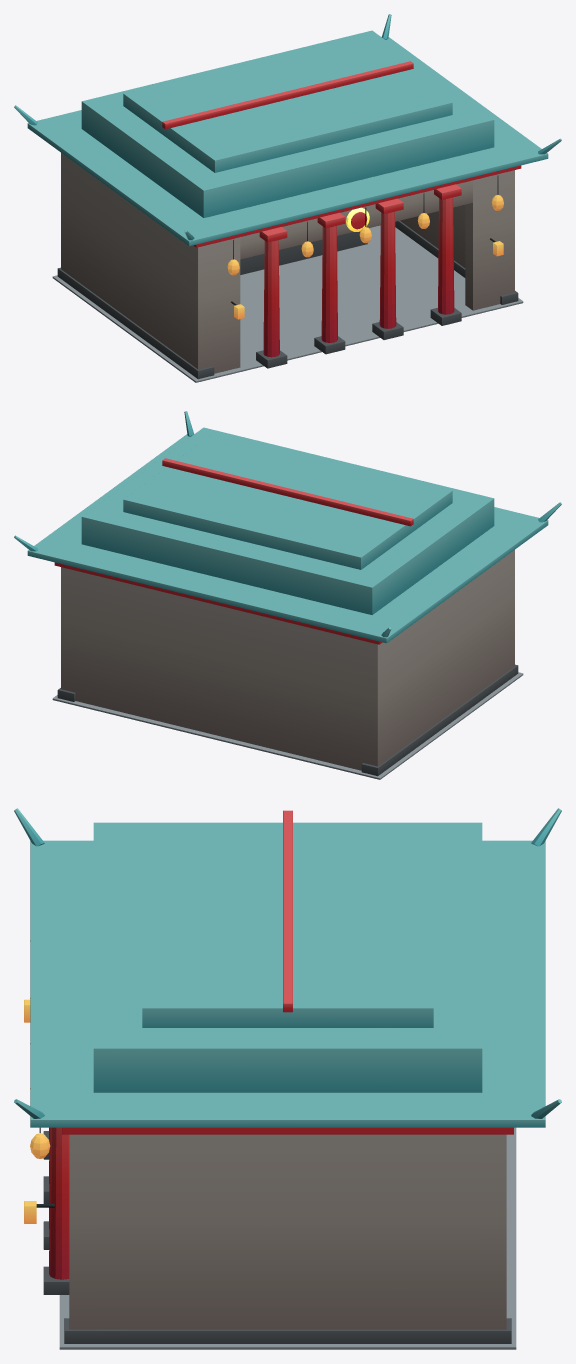
The model's file is bank_lanternhold.glb.
3 renders of one model, top to bottom at view 1: azimuth 30°, elevation 25°; view 2: azimuth 150°, elevation 25°; view 3: azimuth 270°, elevation 25°, orthographic. The views are drawn at different scales.
Parts seen in each view (by area): view 1: bank_lanternhold; view 2: bank_lanternhold; view 3: bank_lanternhold.
Part boxes in pixels (<box>): bank_lanternhold: <box>14,14,561,382</box>; bank_lanternhold: <box>14,411,561,779</box>; bank_lanternhold: <box>14,808,561,1349</box>.
Size of the model in its own units: 14.28 by 7.16 by 11.28.
Materials: 5 (5 with a texture image).
